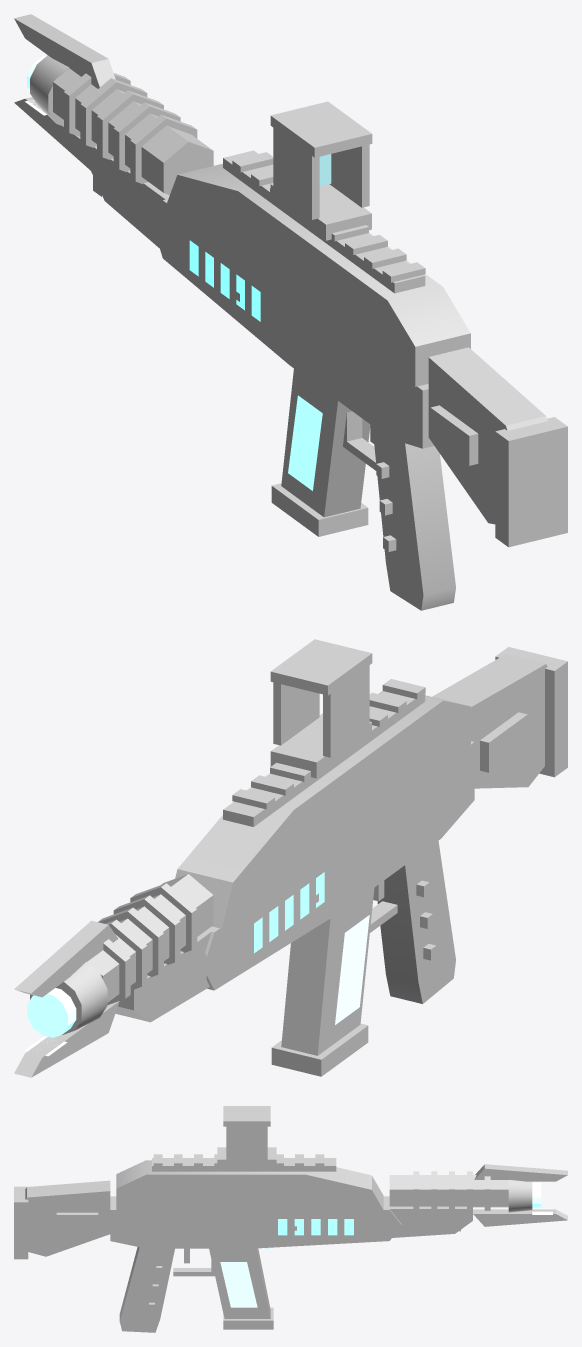
Rendered from blaster.glb.
3 views of the same model, one above another, from view 1: azimuth 30°, elevation 25°; view 2: azimuth 150°, elevation 25°; view 3: azimuth 270°, elevation 25° (orthographic). The views are drawn at different scales.
Visible parts, largest first — view 1: blaster; view 2: blaster; view 3: blaster.
Boxes of the visible parts, x1,y1,x2,y2 form: blaster: [14, 14, 567, 610]; blaster: [14, 639, 567, 1077]; blaster: [14, 1106, 567, 1332].
Size of the model in its own units: 0.0824 by 0.399 by 0.932.
